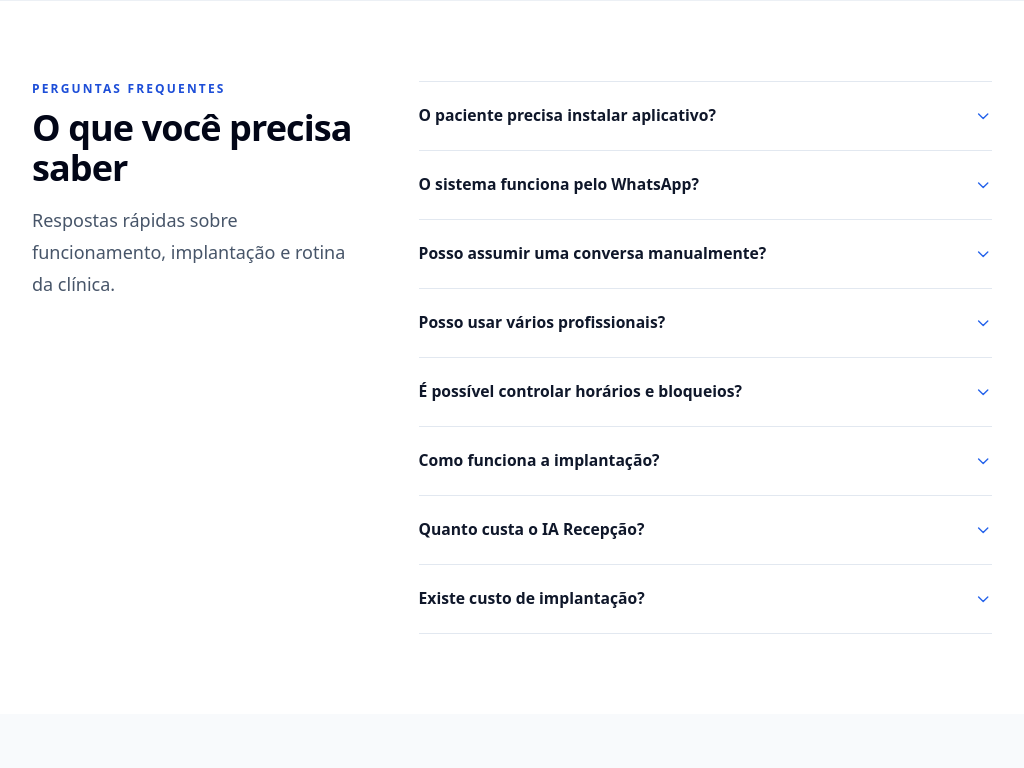
Test: landing closing sections › opens one FAQ answer with accessible state
This screenshot has width=1024, height=768.
What coordinates should you click on to do the following:
click the button "O paciente precisa instalar aplicativo?"
I would click on:
 (705, 116)
Its box is [418,82,992,150].
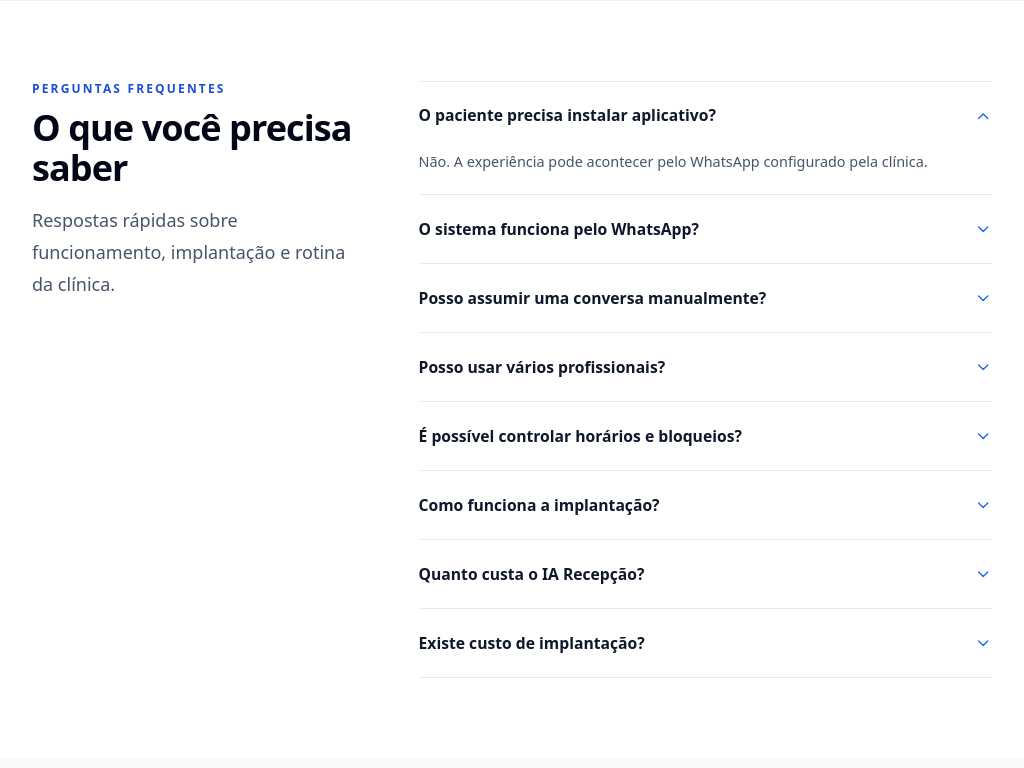
Check: the button "O paciente precisa instalar aplicativo?" is expanded, box [418,82,992,150]
Check: the text "Não. A experiência pode acontecer pelo WhatsApp configurado pela clínica." is shown, box [418,150,960,174]
